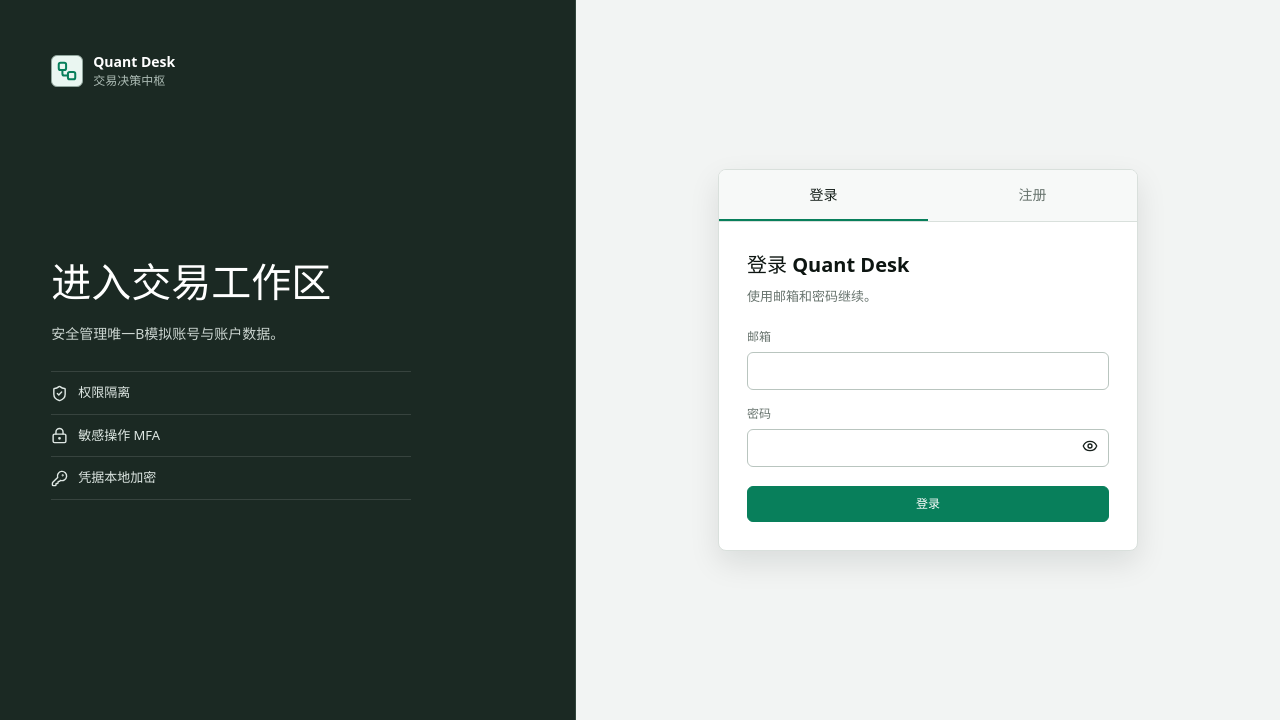
Test: AuthPage › validates password confirmation before registration
Click the tab "注册" at (1032, 195), box x1=928 y1=170 x2=1137 y2=221
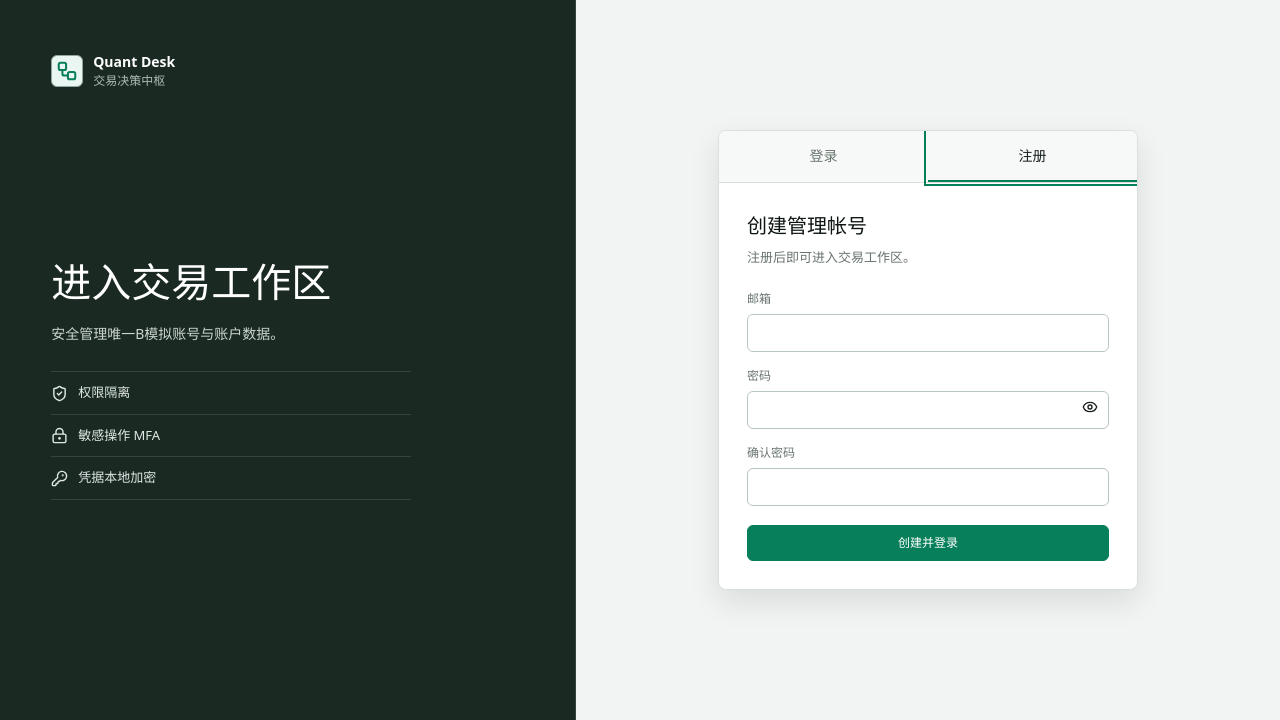
Type "admin@example.com" into the field labelled "邮箱" at (928, 333), box x1=747 y1=314 x2=1109 y2=352
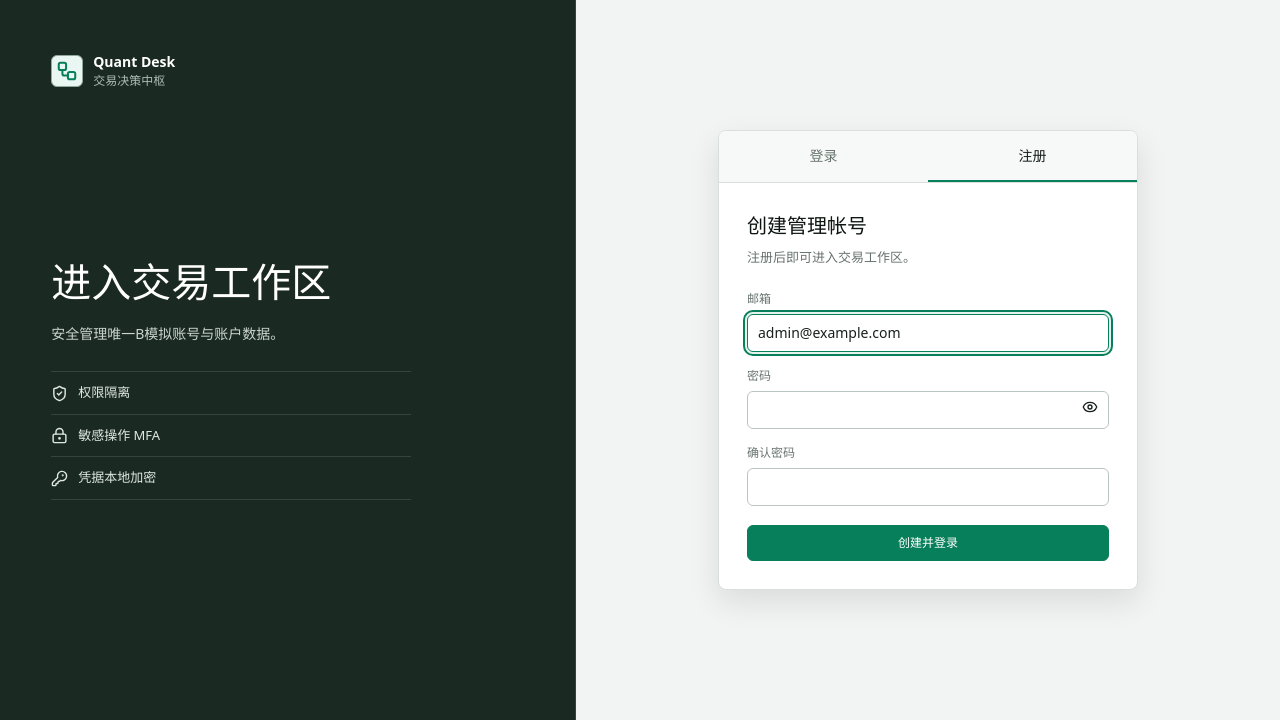
Type "strong-password" into the password field labelled "密码" at (928, 410), box x1=747 y1=391 x2=1109 y2=429
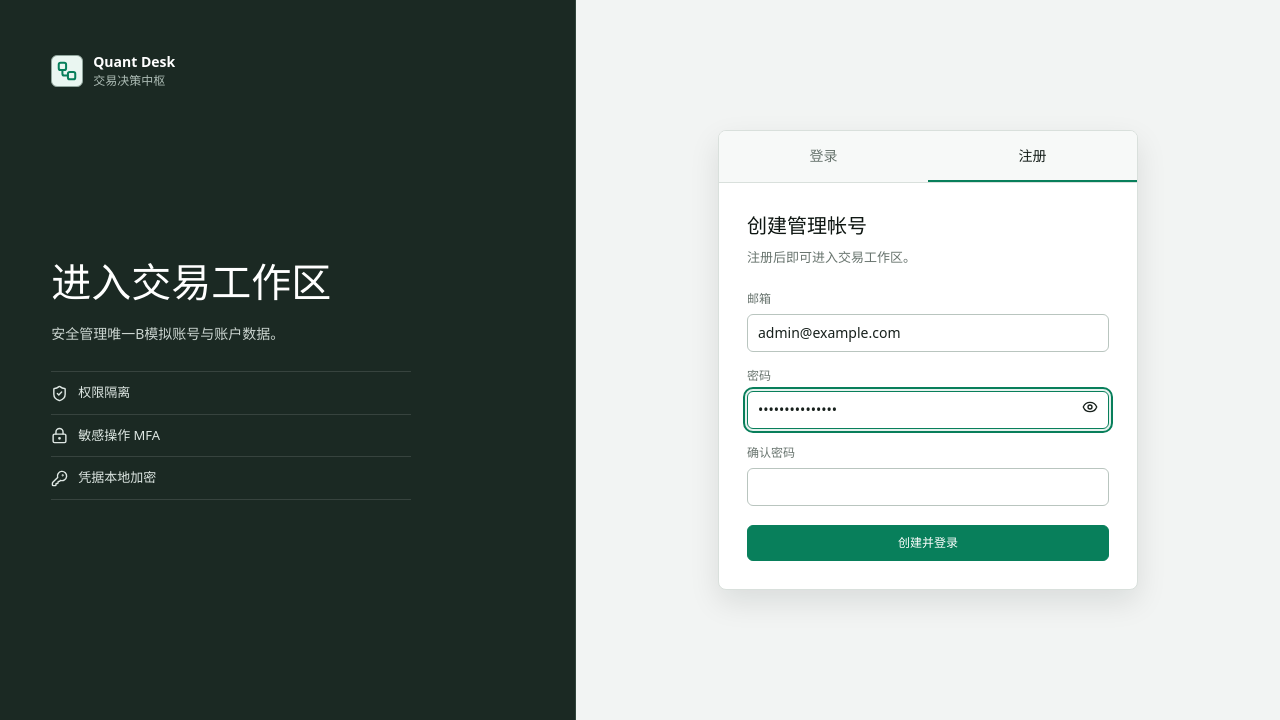
Type "different-password" into the password field labelled "确认密码" at (928, 487), box x1=747 y1=468 x2=1109 y2=506
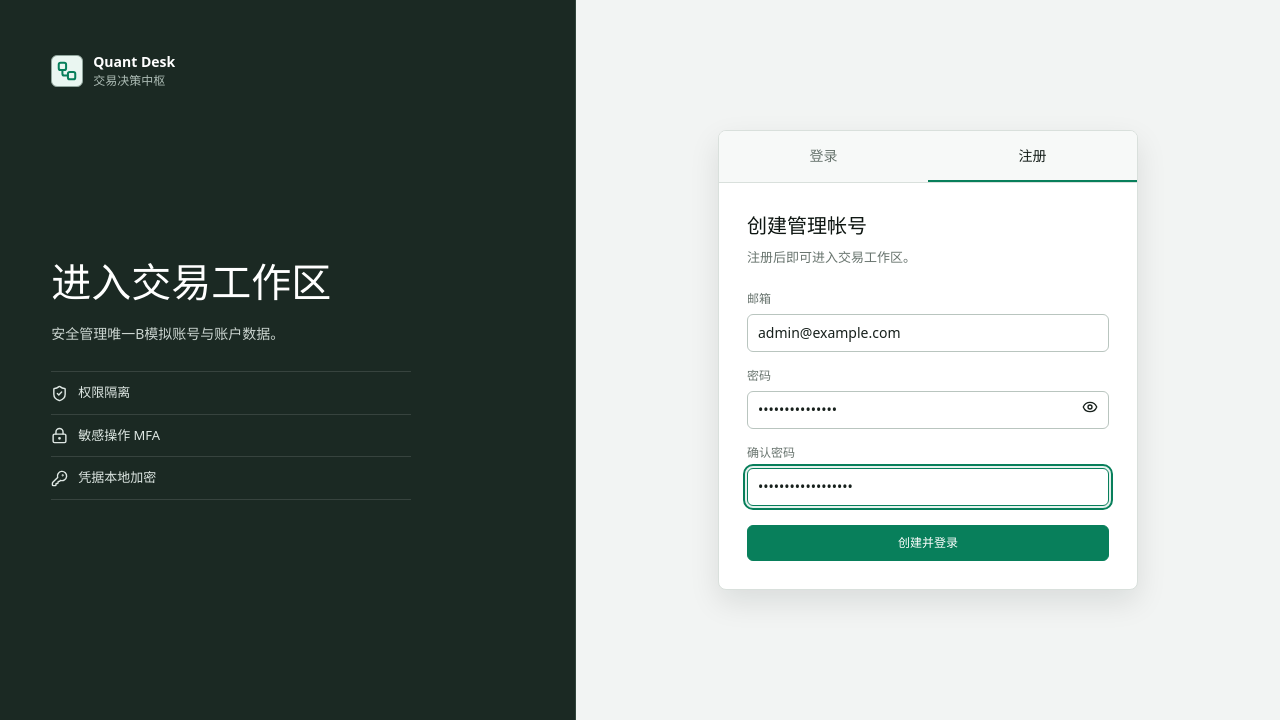
Click the button "创建并登录" at (928, 543), box x1=747 y1=525 x2=1109 y2=561
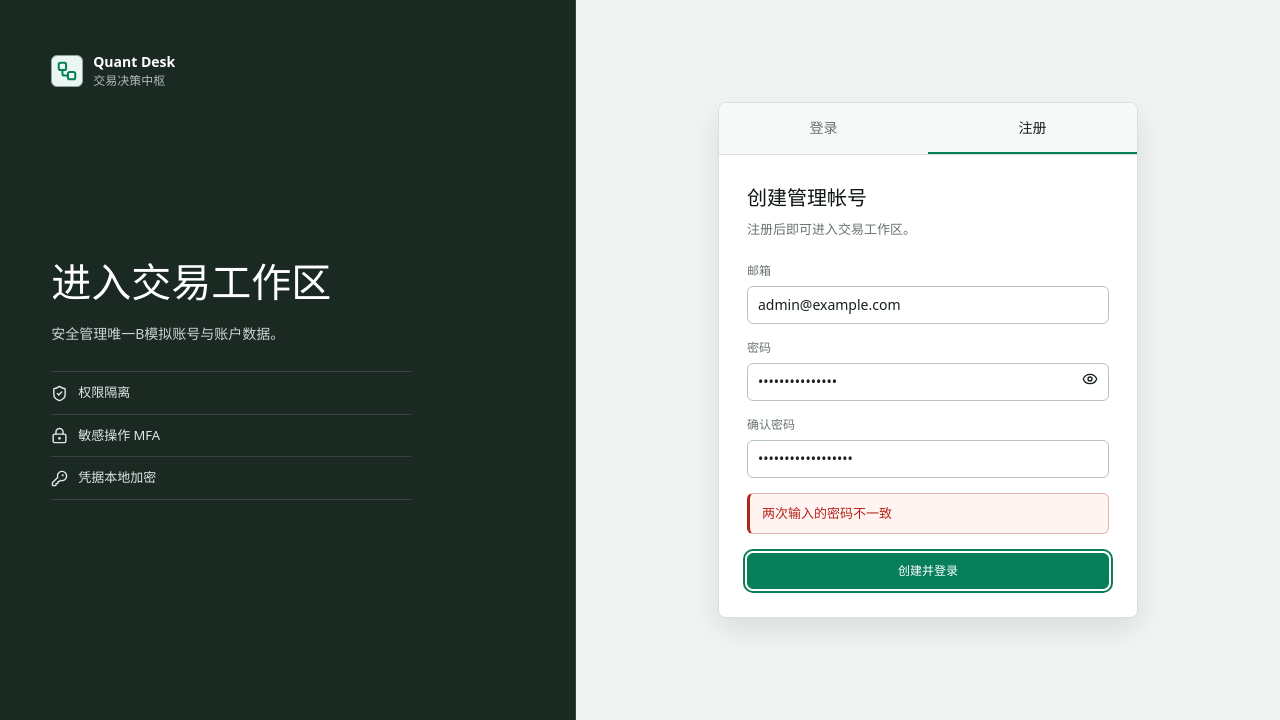
Expected: the message reads "两次输入的密码不一致", x1=762 y1=504 x2=892 y2=522
